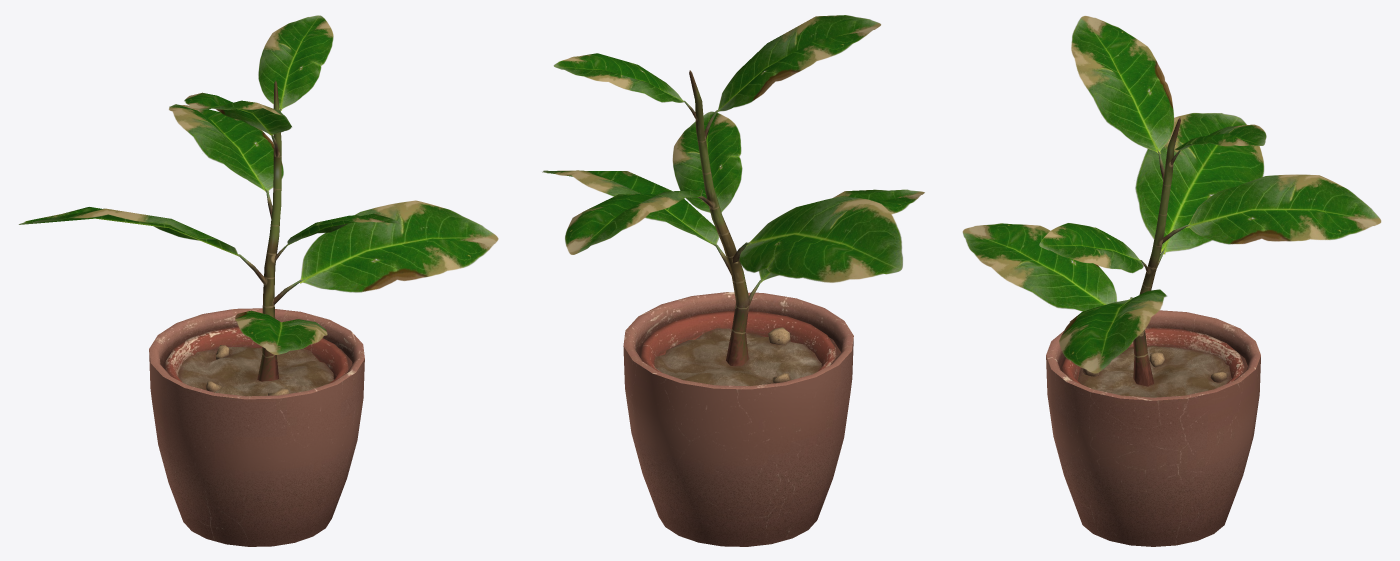
The model's file is flowerFicus.glb.
The picture shows the model from 3 angles, left to right: view 1: azimuth 30°, elevation 25°; view 2: azimuth 150°, elevation 25°; view 3: azimuth 270°, elevation 25°; orthographic projection. The views are drawn at different scales.
Visible parts, largest first — view 1: Ficus; view 2: Ficus; view 3: Ficus.
Boxes of the visible parts, left/top/right/bottom form: Ficus: left=19, top=15, right=498, bottom=546; Ficus: left=542, top=15, right=924, bottom=546; Ficus: left=962, top=16, right=1381, bottom=546.
Size of the model in its own units: 2139 by 2248 by 1930.
Materials: 1 (1 with a texture image).
